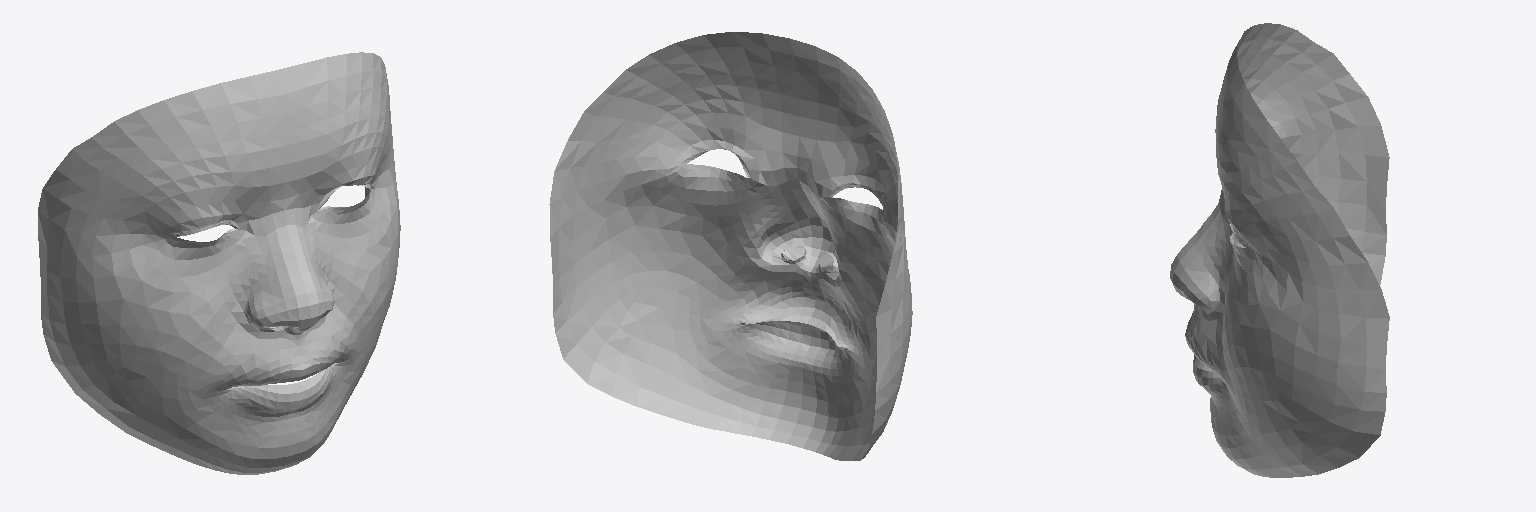
File: eyeLookUp_L.obj
3 views of the same model, side by side, from view 1: azimuth 30°, elevation 25°; view 2: azimuth 150°, elevation 25°; view 3: azimuth 270°, elevation 25° (orthographic).
Parts seen in each view (by area): view 1: default; view 2: default; view 3: default.
Boxes of the visible parts, x1,y1,x2,y2 form: default: [38, 52, 400, 474]; default: [549, 32, 912, 460]; default: [1170, 23, 1389, 477].
Size of the model in its own units: 0.1624 by 0.1851 by 0.0913.